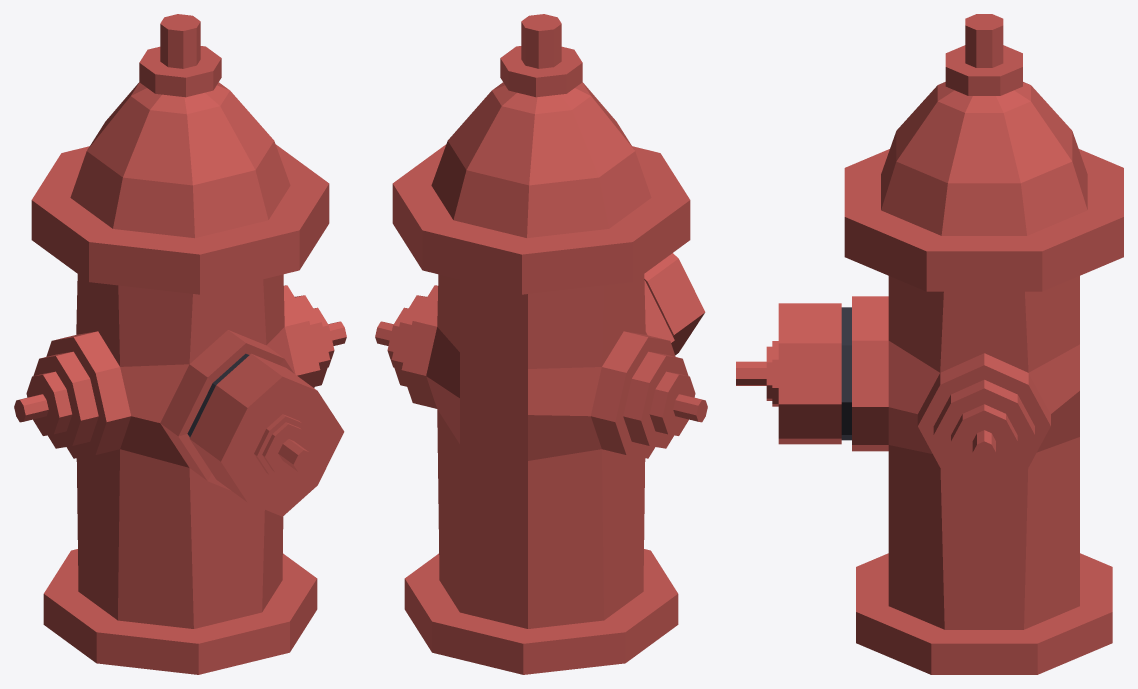
The model's file is firehydrant.fbx.
The picture shows the model from 3 angles, left to right: view 1: azimuth 30°, elevation 25°; view 2: azimuth 150°, elevation 25°; view 3: azimuth 270°, elevation 25°; orthographic projection.
Parts seen in each view (by area): view 1: Circle; view 2: Circle; view 3: Circle.
Part boxes in pixels (bbox=[...]): Circle: bbox=[14, 14, 346, 674]; Circle: bbox=[375, 14, 707, 674]; Circle: bbox=[736, 14, 1123, 674].
Bounding box in the file's own units: 44.38 × 78.49 × 46.1.
